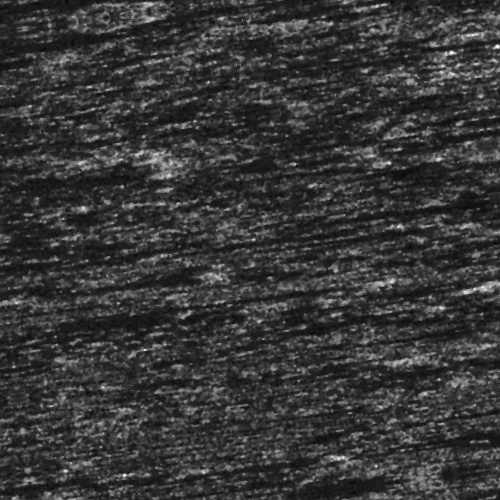object: (302, 286, 437, 305), (0, 459, 80, 486), (73, 28, 114, 37), (480, 224, 500, 237), (458, 311, 499, 316)
shadow: (108, 286, 369, 305), (354, 224, 500, 237), (20, 28, 93, 37), (415, 311, 478, 316)
